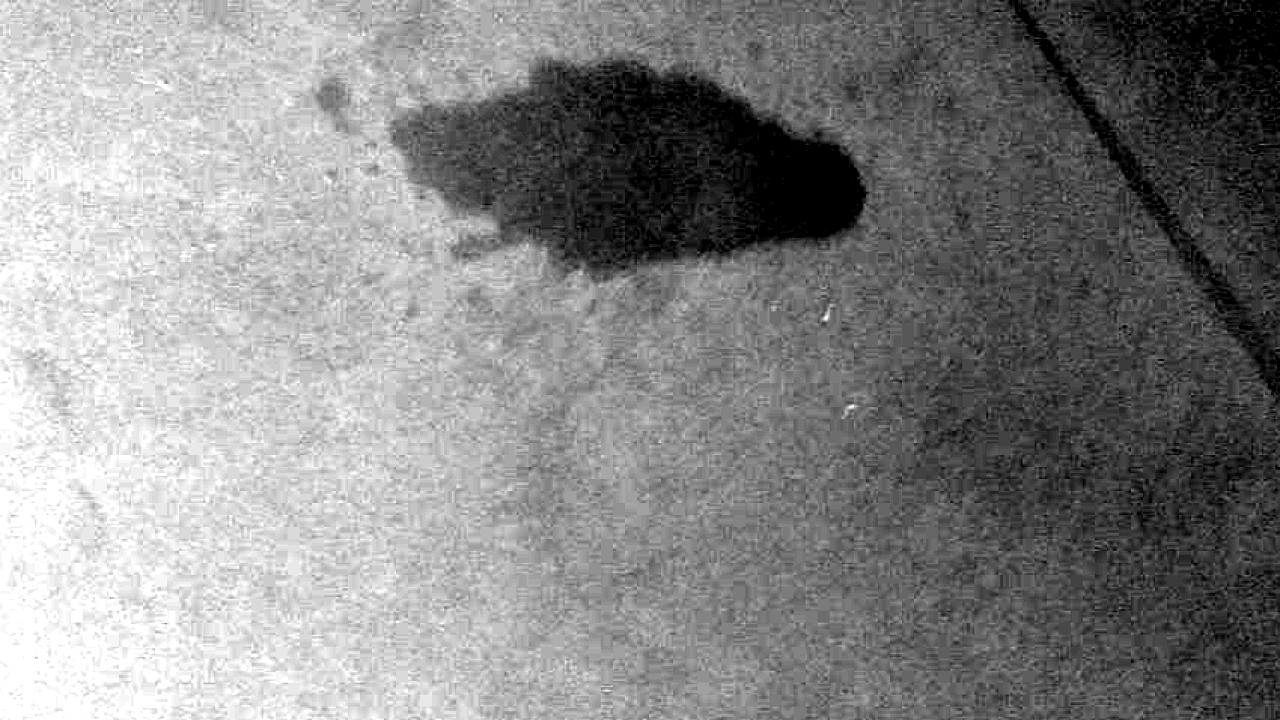drinks Stains: (384, 56, 862, 285)
